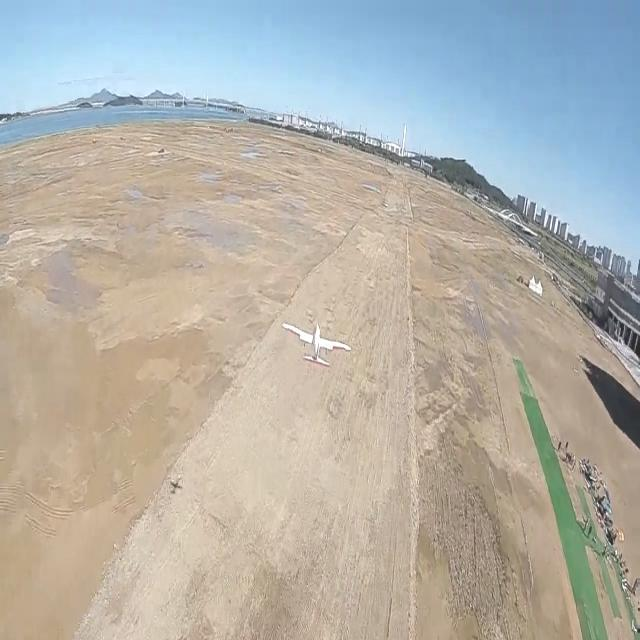iha: (315, 318, 319, 369)
